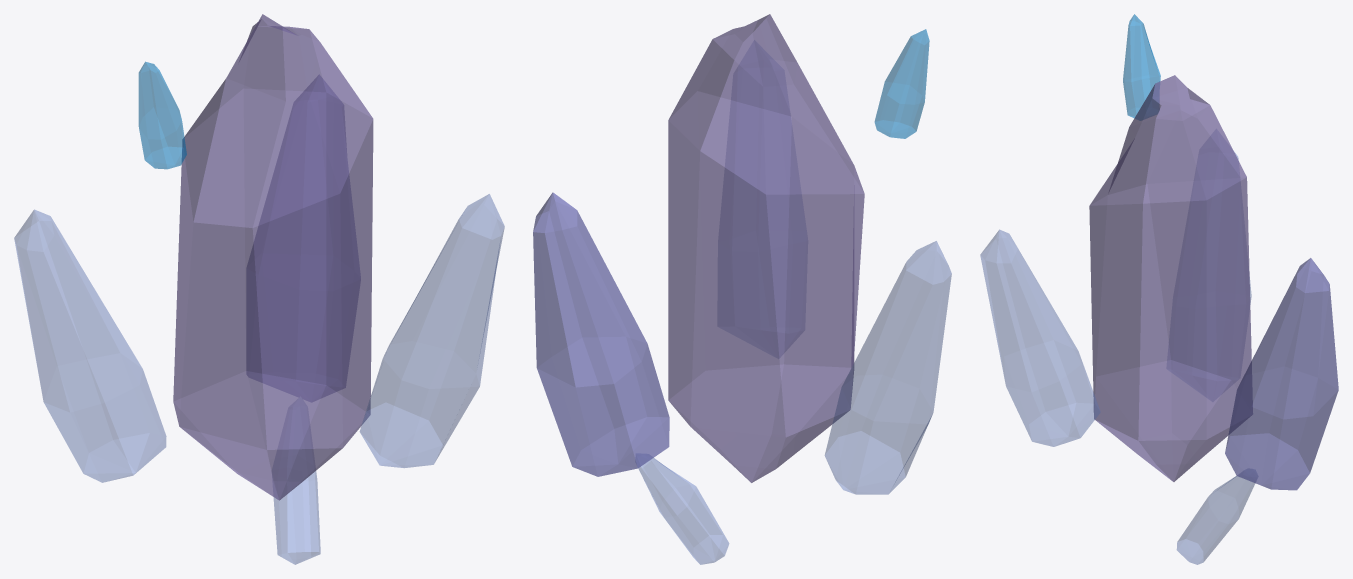
Rendered from crystal.fbx.
3 renders of one model, left to right at view 1: azimuth 30°, elevation 25°; view 2: azimuth 150°, elevation 25°; view 3: azimuth 270°, elevation 25°, orthographic. The views are drawn at different scales.
Visible parts, largest first — view 1: polySurface22; view 2: polySurface22; view 3: polySurface22.
Boxes of the visible parts, box(x1,y1,x2,y2) form: polySurface22: box(14, 14, 504, 564); polySurface22: box(533, 14, 951, 564); polySurface22: box(980, 14, 1338, 564).
Size of the model in its own units: 25.45 by 37.18 by 25.64.
